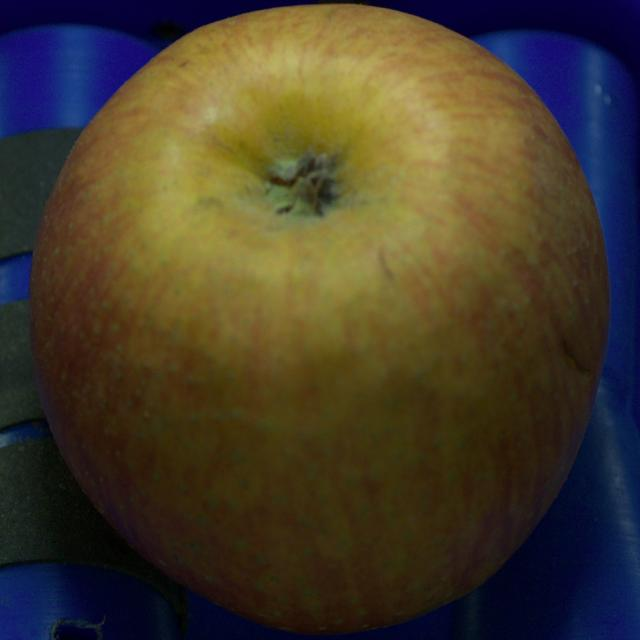apple: (30, 4, 609, 633)
scratch: (561, 340, 589, 374)
